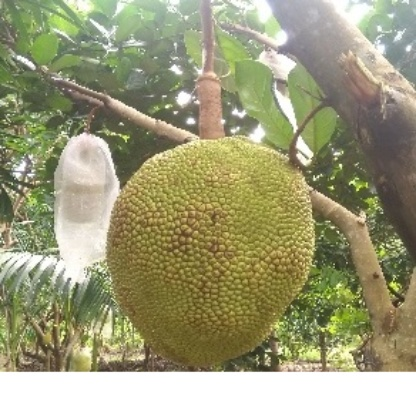mit: (96, 105, 310, 357)
